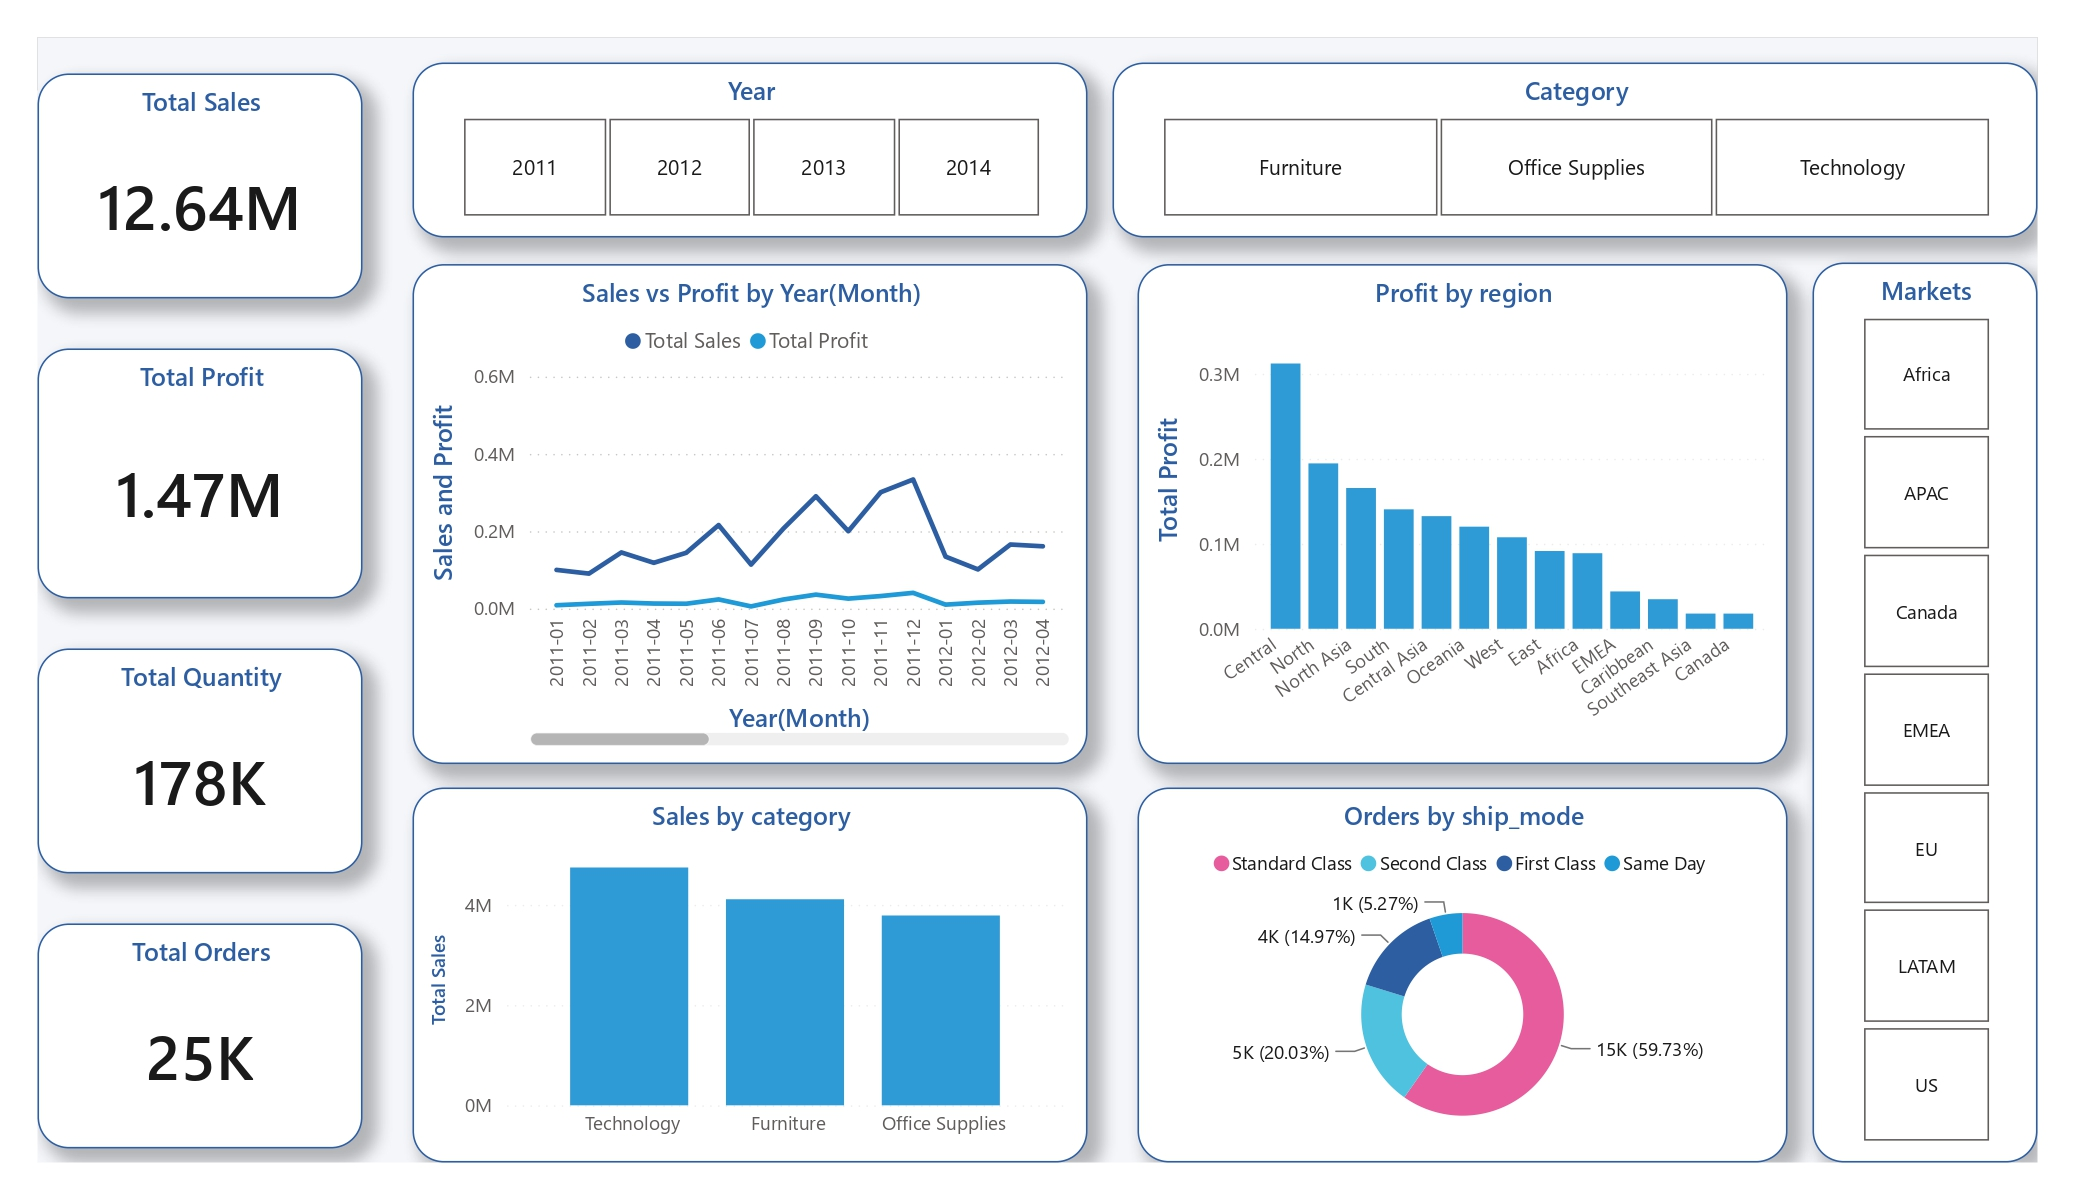

Layout of this report page (visuals, bound fields, positions):
{"tool":"powerbi","page":{"name":"Executive Overview","canvas":[1280,720],"ordinal":0},"visuals":[{"type":"cardVisual","title":"Total Sales","fields":{"Data":["Measures (2).Total Sales"]},"box":[0,23.4,208,144],"z":0},{"type":"cardVisual","title":"Total Orders","fields":{"Data":["Measures (2).Total Orders"]},"box":[0,567.4,208,144],"z":1000},{"type":"cardVisual","title":"Total Profit","fields":{"Data":["Measures (2).Total Profit"]},"box":[0,199.4,208,160],"z":2000},{"type":"cardVisual","title":"Total Quantity","fields":{"Data":["Measures (2).Total Quantity"]},"box":[0,391.4,208,144],"z":3000},{"type":"lineChart","title":"Sales vs Profit by Year(Month)","fields":{"Category":["Date.Year Month"],"Y":["Measures (2).Total Sales","Measures (2).Total Profit"]},"box":[240,145.2,432,320],"z":4000},{"type":"columnChart","title":"Sales by category","fields":{"Category":["products.category"],"Y":["Measures (2).Total Sales"]},"box":[240,480,432,240],"z":5000},{"type":"columnChart","title":"Profit by region","fields":{"Category":["orders.region"],"Y":["Measures (2).Total Profit"]},"box":[704,145.2,416,320],"z":6000},{"type":"slicer","title":"Year","fields":{"Values":["Date.Date.Variation.Date Hierarchy.Year"]},"box":[240,16,432,112],"z":7000},{"type":"slicer","title":"Markets","fields":{"Values":["orders.market"]},"box":[1136,144,144,576],"z":8000},{"type":"slicer","title":"Category","fields":{"Values":["products.category"]},"box":[688,16,592,112],"z":9000},{"type":"donutChart","title":"Orders by ship_mode","fields":{"Category":["orders.ship_mode"],"Y":["Measures (2).Total Orders"]},"box":[704,480,416,240],"z":10000}]}

Visuals, with their boxes in screenshot pixels (x1, y1, x2, y2):
"Total Sales" cardVisual: (49, 74, 369, 296)
"Total Orders" cardVisual: (49, 913, 369, 1135)
"Total Profit" cardVisual: (49, 345, 369, 592)
"Total Quantity" cardVisual: (49, 641, 369, 863)
"Sales vs Profit by Year(Month)" lineChart: (419, 262, 1085, 755)
"Sales by category" columnChart: (419, 778, 1085, 1148)
"Profit by region" columnChart: (1134, 262, 1776, 755)
"Year" slicer: (419, 63, 1085, 235)
"Markets" slicer: (1800, 260, 2022, 1148)
"Category" slicer: (1110, 63, 2022, 235)
"Orders by ship_mode" donutChart: (1134, 778, 1776, 1148)
